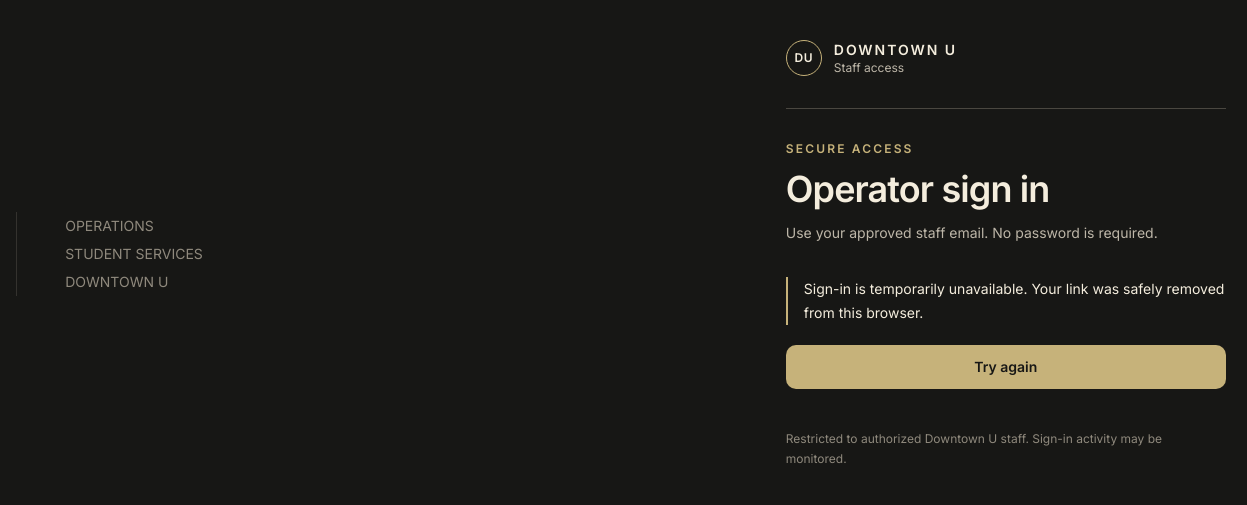
email link and SMS MFA › retries verify-email after 503 with the same private in-memory credentials
What coordinates should you click on to do the following:
click the button "Try again"
I would click on:
 (1006, 366)
Its box is [786,344,1226,388].
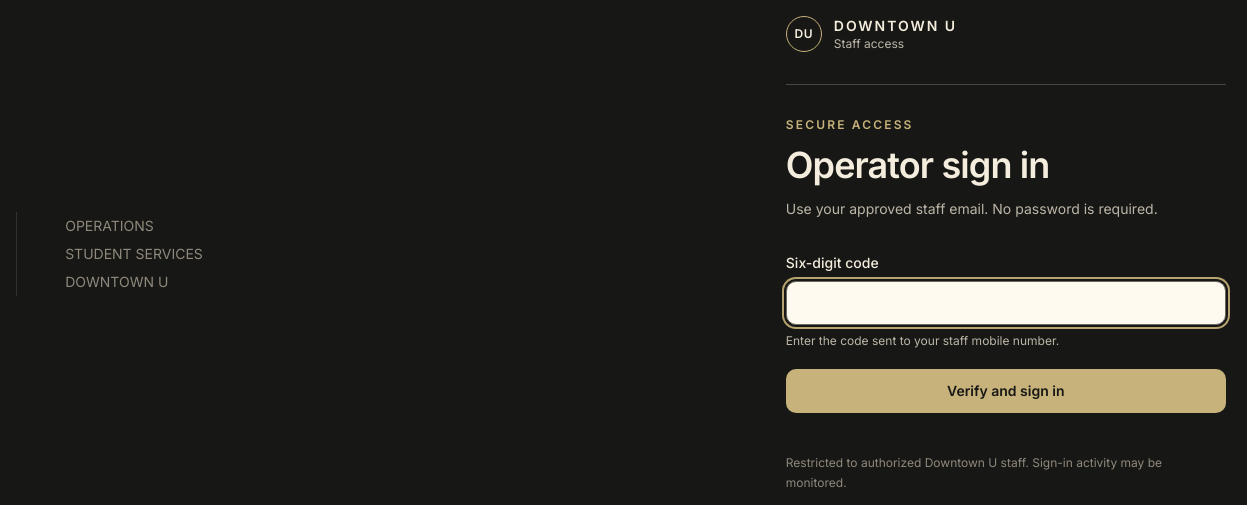
Expected: the field labelled "Six-digit code" is shown, [786,280,1226,324]
